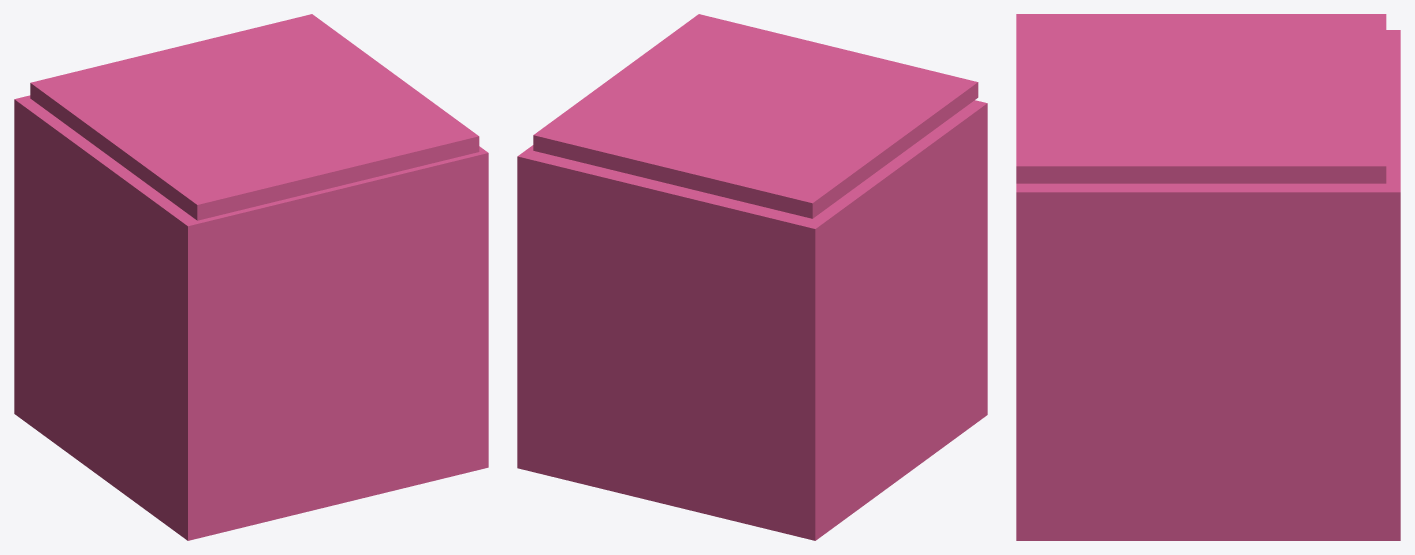
Rendered from ContainerTable.fbx.
The picture shows the model from 3 angles, left to right: view 1: azimuth 30°, elevation 25°; view 2: azimuth 150°, elevation 25°; view 3: azimuth 270°, elevation 25°; orthographic projection. The views are drawn at different scales.
Parts seen in each view (by area): view 1: Container, Cover; view 2: Container, Cover; view 3: Container, Cover.
Boxes of the visible parts, bbox=[...] form: Container: bbox=[14, 95, 488, 540]; Cover: bbox=[30, 14, 479, 220]; Container: bbox=[517, 100, 987, 540]; Cover: bbox=[533, 14, 978, 218]; Container: bbox=[1016, 30, 1400, 540]; Cover: bbox=[1016, 14, 1386, 183].
Size of the model in its own units: 100 by 100 by 106.
